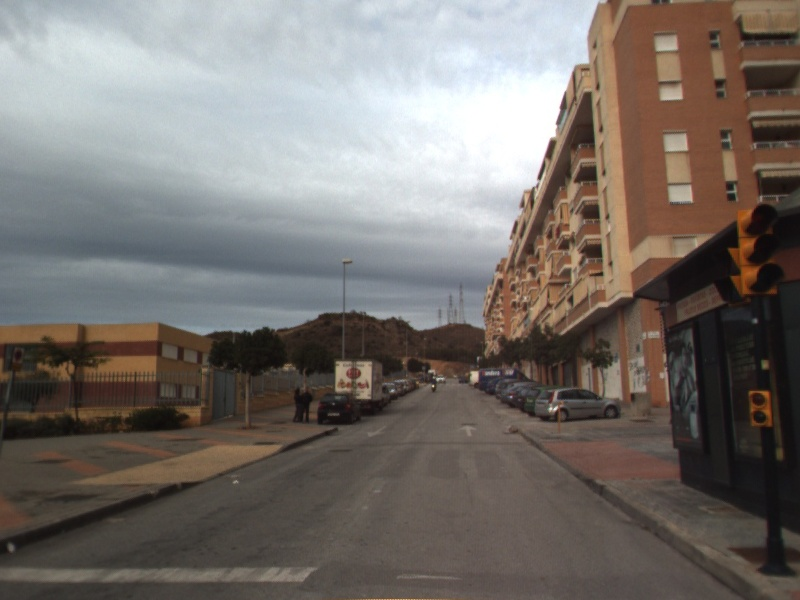STRAIGHT: (458, 422, 479, 438)
